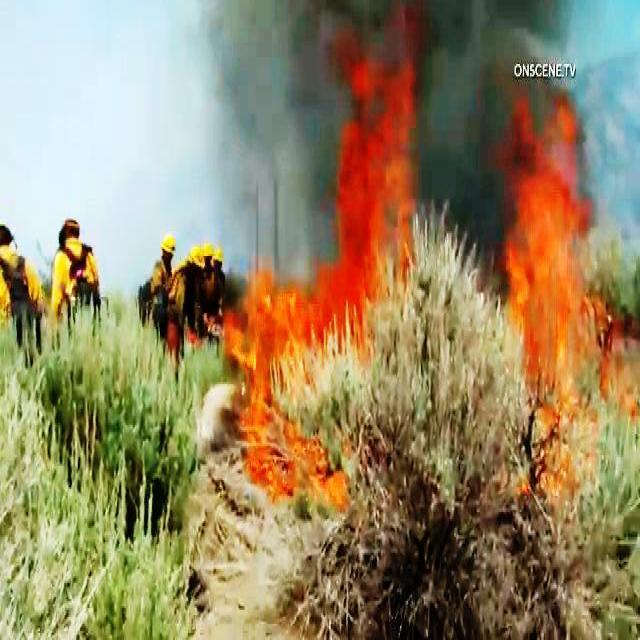Fire: (227, 19, 414, 504), (494, 80, 604, 510)
Smoke: (418, 10, 494, 248)
